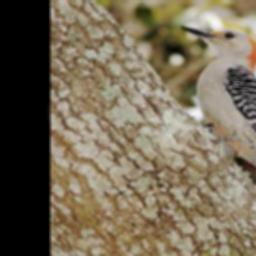Woodpecker: (175, 16, 256, 225)
